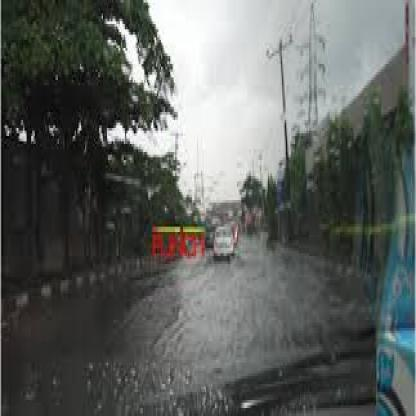car: (205, 204, 238, 265)
